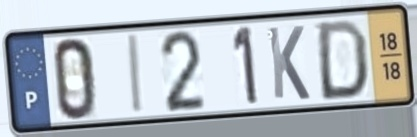0: (51, 35, 97, 123)
1: (230, 24, 263, 109)
2: (158, 27, 208, 116)
D: (316, 16, 370, 103)
I: (127, 32, 146, 117)
K: (265, 24, 312, 103)
